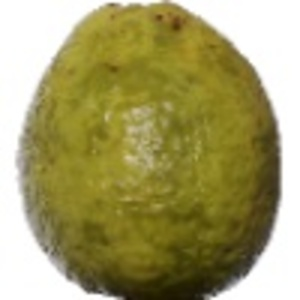goiaba: (10, 3, 285, 298)
